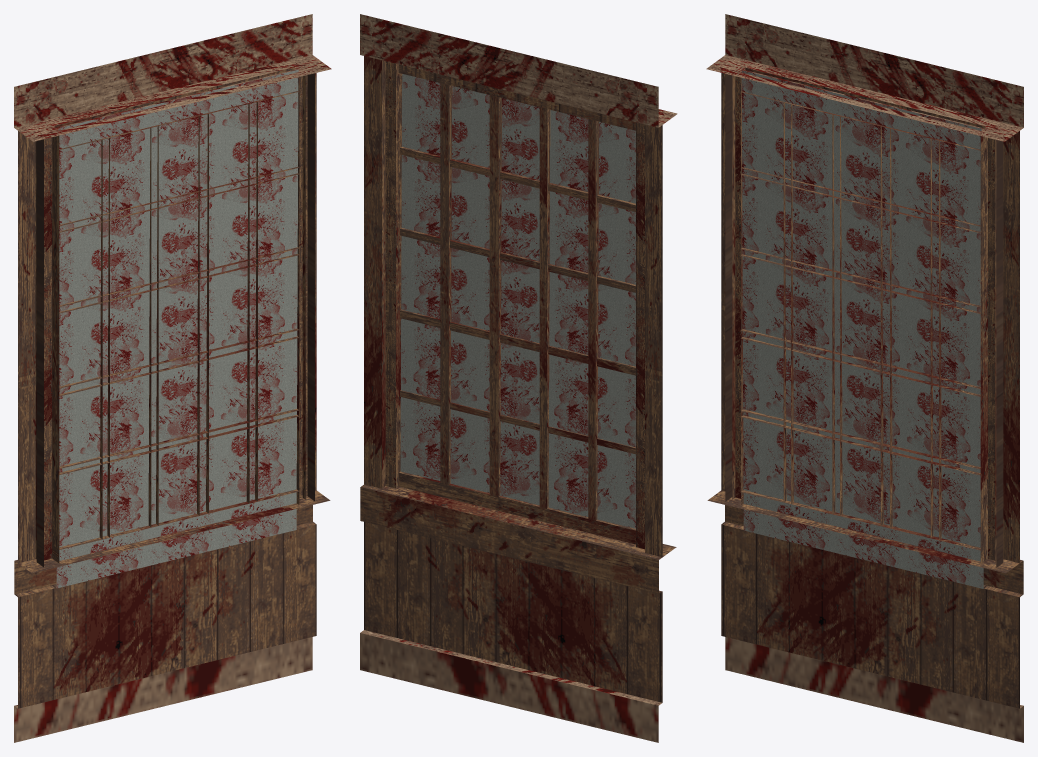
File: shogi_wall.fbx
3 views of the same model, side by side, from view 1: azimuth 30°, elevation 25°; view 2: azimuth 150°, elevation 25°; view 3: azimuth 330°, elevation 25° (orthographic).
Visible parts, largest first — view 1: shogi:Mesh; view 2: shogi:Mesh; view 3: shogi:Mesh.
Part boxes in pixels (bbox=[...]): shogi:Mesh: bbox=[14, 14, 331, 742]; shogi:Mesh: bbox=[360, 14, 677, 742]; shogi:Mesh: bbox=[706, 14, 1023, 742].
Size of the model in its own units: 1 by 2.1 by 0.1119.
Materials: 3 (3 with a texture image).
